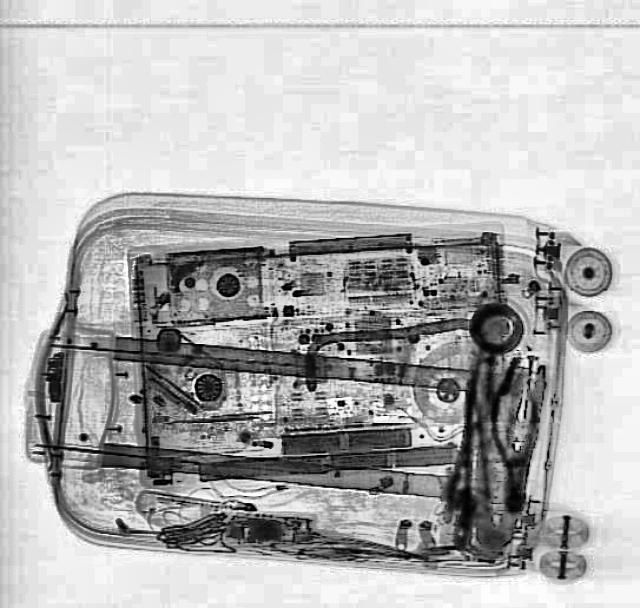Pliers: (456, 357, 546, 548), (482, 354, 540, 512)
